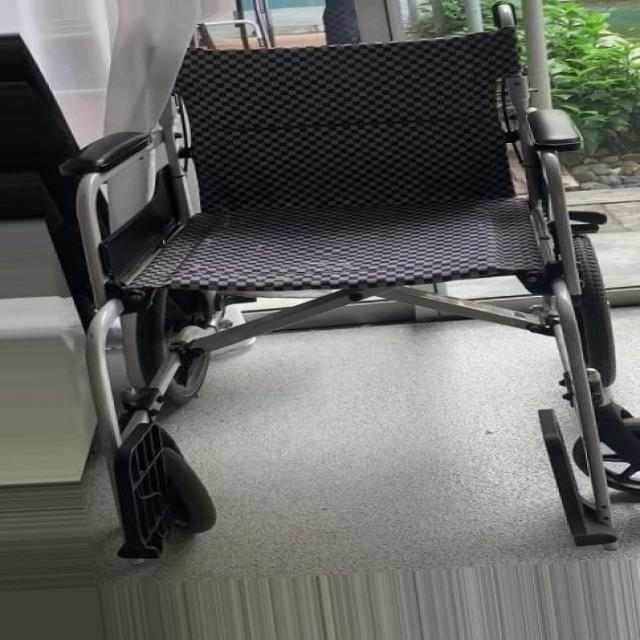wheelchair: (34, 7, 640, 582)
